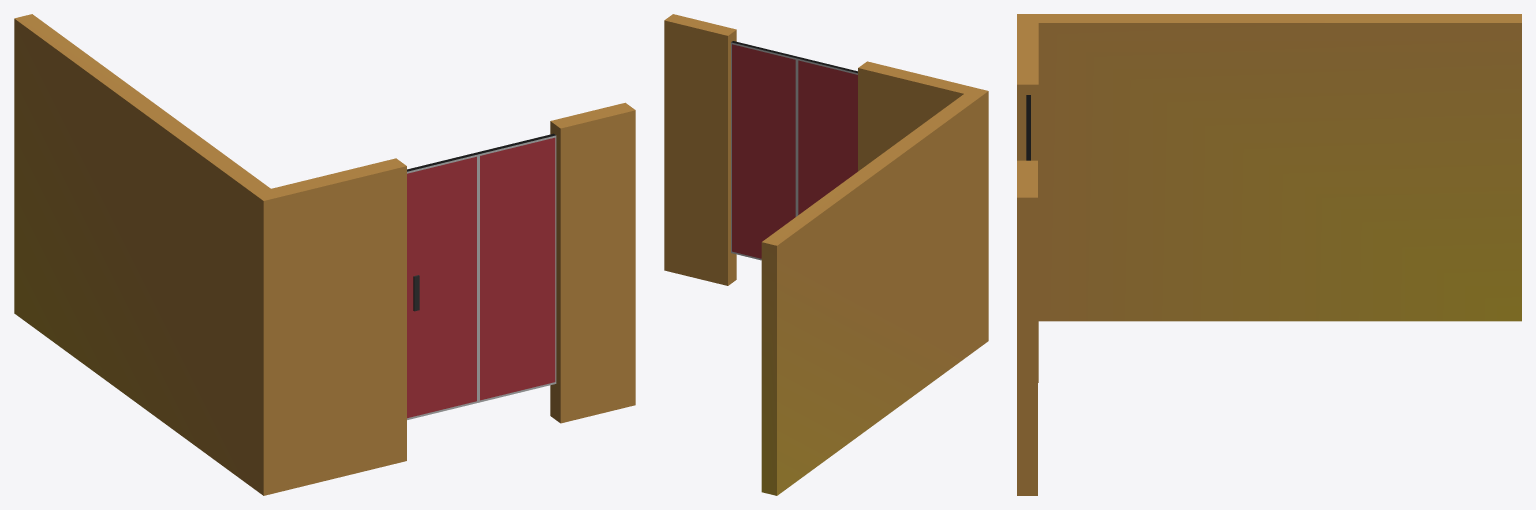
The model's file is vestier.FBX.
The picture shows the model from 3 angles, left to right: view 1: azimuth 30°, elevation 25°; view 2: azimuth 150°, elevation 25°; view 3: azimuth 270°, elevation 25°; orthographic projection. The views are drawn at different scales.
Visible parts, largest first — view 1: Box014, Box015; view 2: Box014, Box015; view 3: Box014.
Boxes of the visible parts, x1,y1,x2,y2 form: Box014: [14, 14, 635, 495]; Box015: [407, 133, 556, 419]; Box014: [664, 14, 988, 495]; Box015: [731, 41, 857, 260]; Box014: [1017, 14, 1521, 495].
Size of the model in its own units: 396 by 460 by 300.
